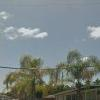Tree: (11, 57, 50, 100)
